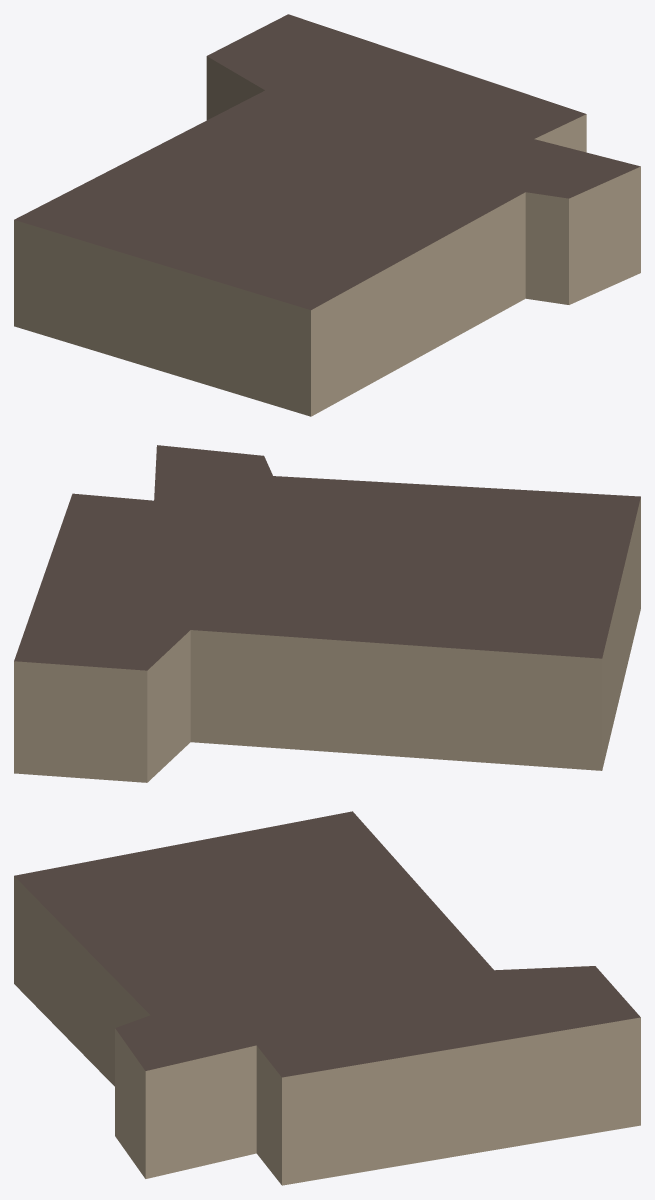
3 renders of one model, top to bottom at view 1: azimuth 30°, elevation 25°; view 2: azimuth 150°, elevation 25°; view 3: azimuth 270°, elevation 25°, orthographic. The views are drawn at different scales.
Parts seen in each view (by area): view 1: HP-w682223752; view 2: HP-w682223752; view 3: HP-w682223752.
Boxes of the visible parts, left/top/right/bottom form: HP-w682223752: left=14, top=14, right=640, bottom=416; HP-w682223752: left=14, top=445, right=640, bottom=782; HP-w682223752: left=14, top=811, right=640, bottom=1185.
Size of the model in its own units: 31.69 by 6 by 31.54.
